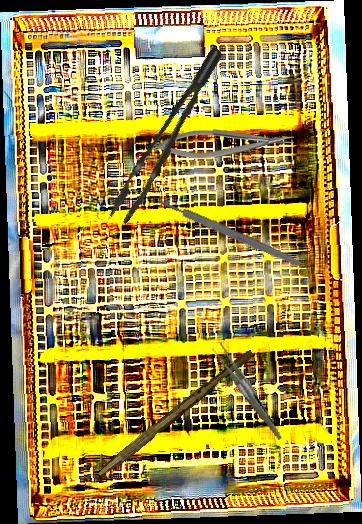Dressing Forceps: (210, 332, 283, 451)
Needle Holder: (152, 129, 294, 159)
Scalpel Handle: (96, 345, 256, 483), (156, 196, 303, 269)
Tissue Forceps: (92, 46, 246, 227)
